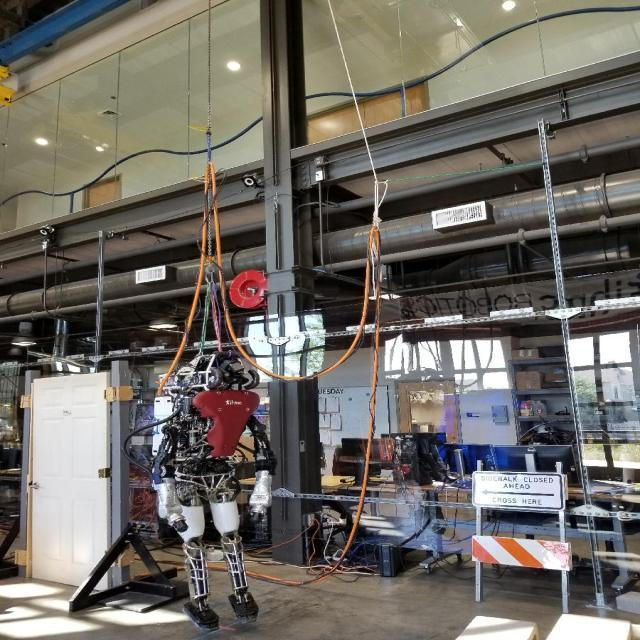door: (26, 370, 116, 596), (28, 482, 42, 492)
